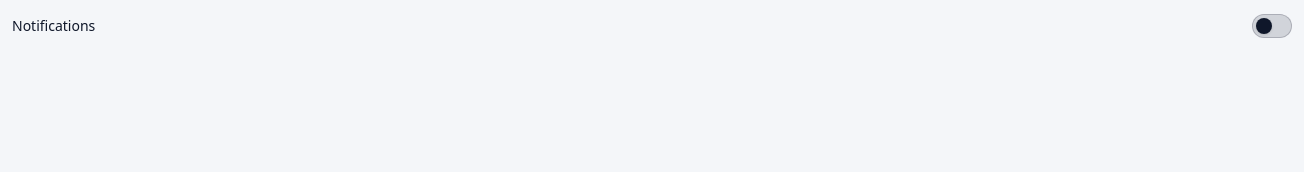
Checkbox, Switch, SegmentedControl › Switch is role=switch, toggles with Space and click on its label
Check: the switch labelled "Notifications" is not checked, box [1252, 14, 1292, 38]
Click the text "Notifications".
click(54, 26)  # box [12, 16, 95, 35]
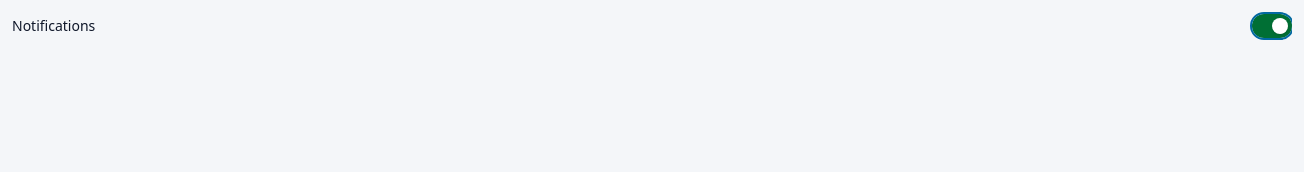
Check: the switch labelled "Notifications" is checked, box [1252, 14, 1292, 38]
Type keys " "
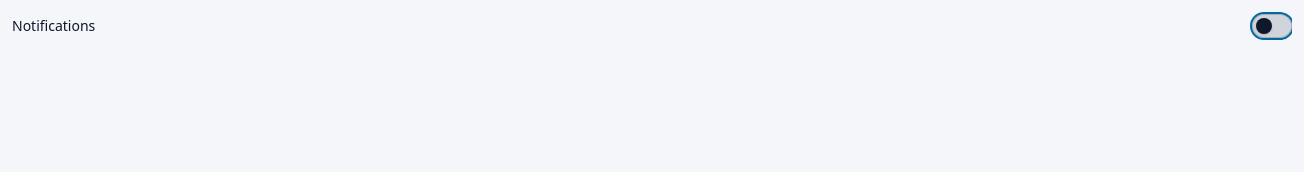
Check: the switch labelled "Notifications" is not checked, box [1252, 14, 1292, 38]
